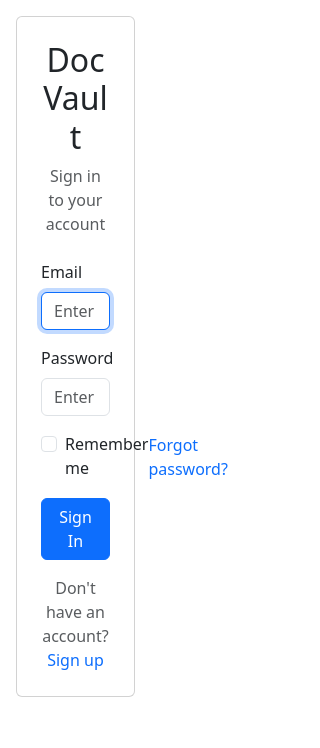
Test case: LoginPage Integration Tests › Failed Login Flow › should allow dismissing error alert
Type "test@example.com" into the field labelled "Email" at (75,311), box [41, 292, 110, 330]
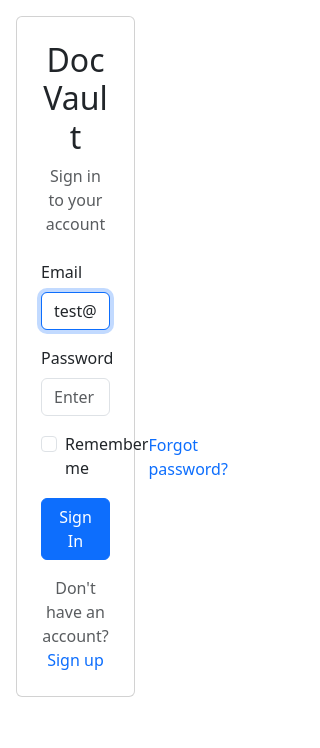
Type "password123" into the password field labelled "Password" at (75,397), box [41, 378, 110, 416]
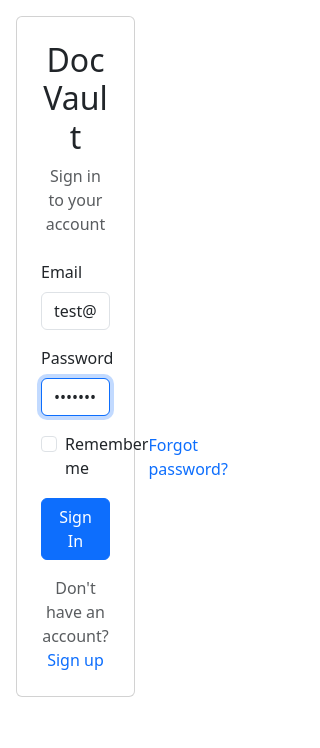
Click the button "Sign In" at (75,529), box [41, 498, 110, 560]
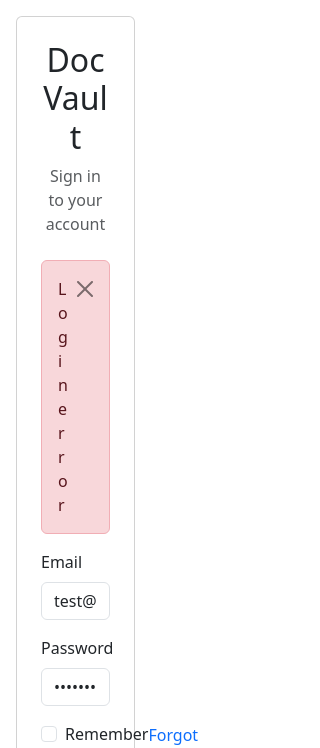
Check: the text "Login error" is shown, box [41, 260, 110, 534]
Dismiss the alert
Click the button named "close" at (85,289), box [61, 261, 109, 317]
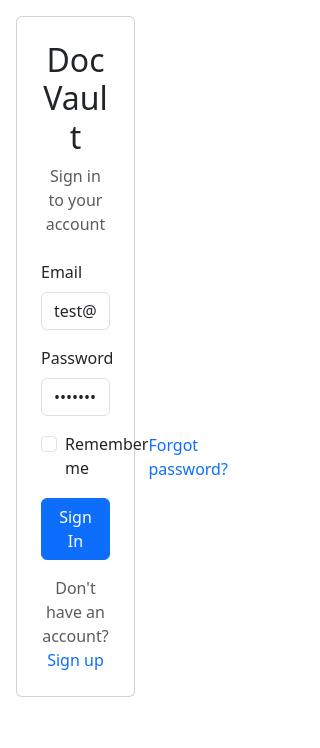
Check: the text "Login error" is gone
